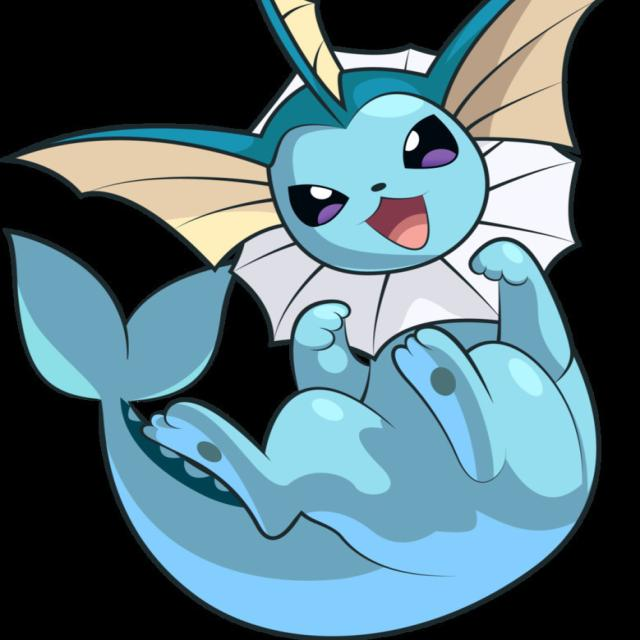Vaporeon: (97, 0, 640, 572)
